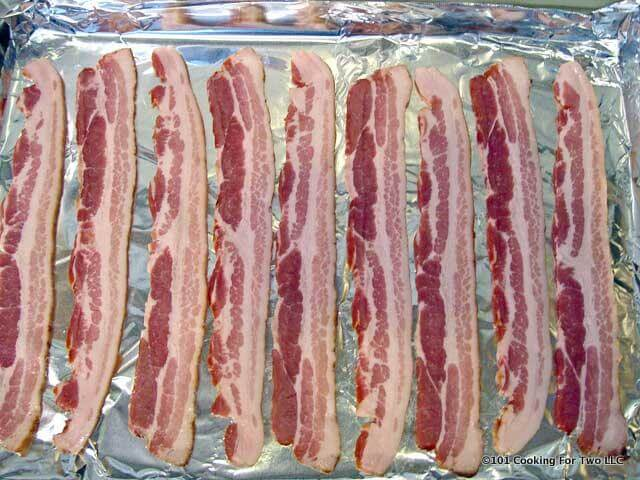bacon: (53, 69, 588, 410)
